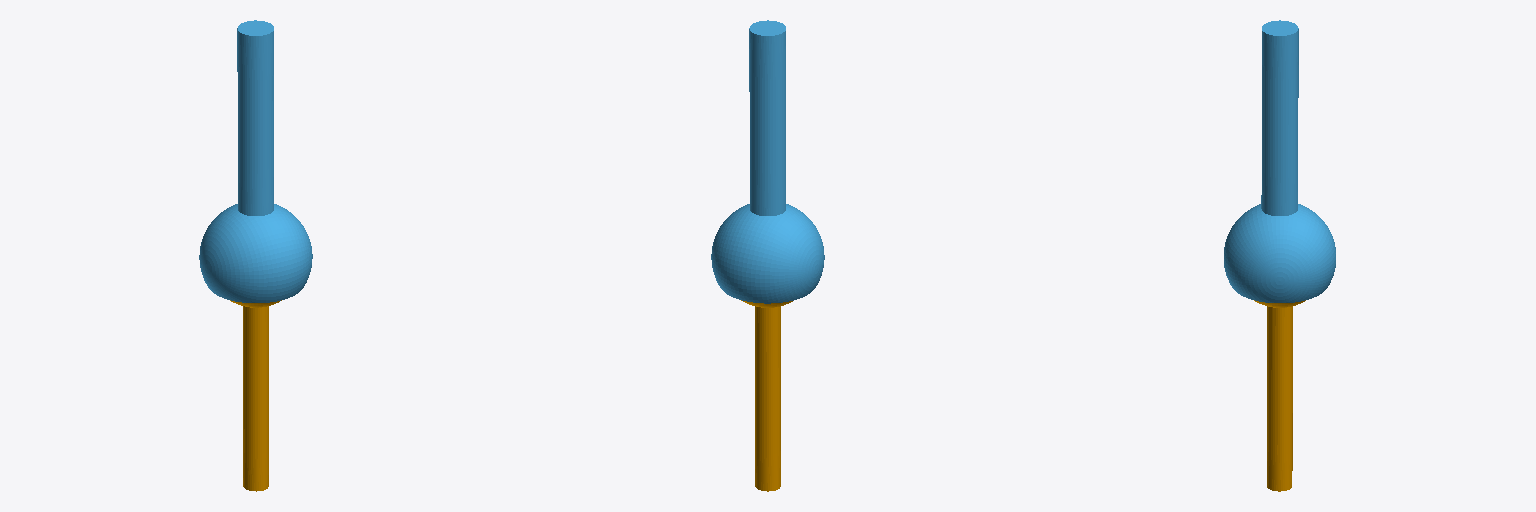
The robot description file, URDF, robot "sperical_joint":
<?xml version="1.0"?>
<robot name="sperical_joint">
  <link name="base_link">
    <visual>
      <origin rpy="3.14 0 0" xyz="-0.254 0 0"/>
      <geometry>
        <mesh filename="package://spherical_joint/models/spherical_ball.stl" scale="0.001 0.001 0.001"/>
      </geometry>
    </visual>
  </link>

  <joint name="base_link_to_cup" type="floating">
    <parent link="base_link"/>
    <child link="cup"/>
    <origin xyz="0 0 0"/>
  </joint>

  <link name="cup">
    <visual>
      <origin rpy="1.57 0 0" xyz="0 0.284 -0.142"/>
      <geometry>
        <mesh filename="package://spherical_joint/models/spherical_cup.stl" scale="0.001 0.001 0.001"/>
      </geometry>
    </visual>
  </link>
</robot>

--- Facts derived from the render (not from the file) ---
Views: 3 orthographic renders of the robot side by side, from view 1: azimuth 30°, elevation 25°; view 2: azimuth 150°, elevation 25°; view 3: azimuth 270°, elevation 25°.
Model sperical_joint with 2 links and 1 joints (1 floating), rooted at base_link, posed every joint at zero.
Links seen in each view (by area): view 1: cup, base_link; view 2: cup, base_link; view 3: cup, base_link.
Link boxes in pixels (x1,y1,x2,y2): cup: (199,20,312,302); base_link: (230,300,281,491); cup: (711,20,824,303); base_link: (741,300,792,491); cup: (1224,20,1335,302); base_link: (1254,300,1305,491).
Size in the robot's own frame: 0.5686 by 0.5676 by 2.54 metres.
2 mesh visuals loaded from 2 distinct referenced files (2 binary STL).